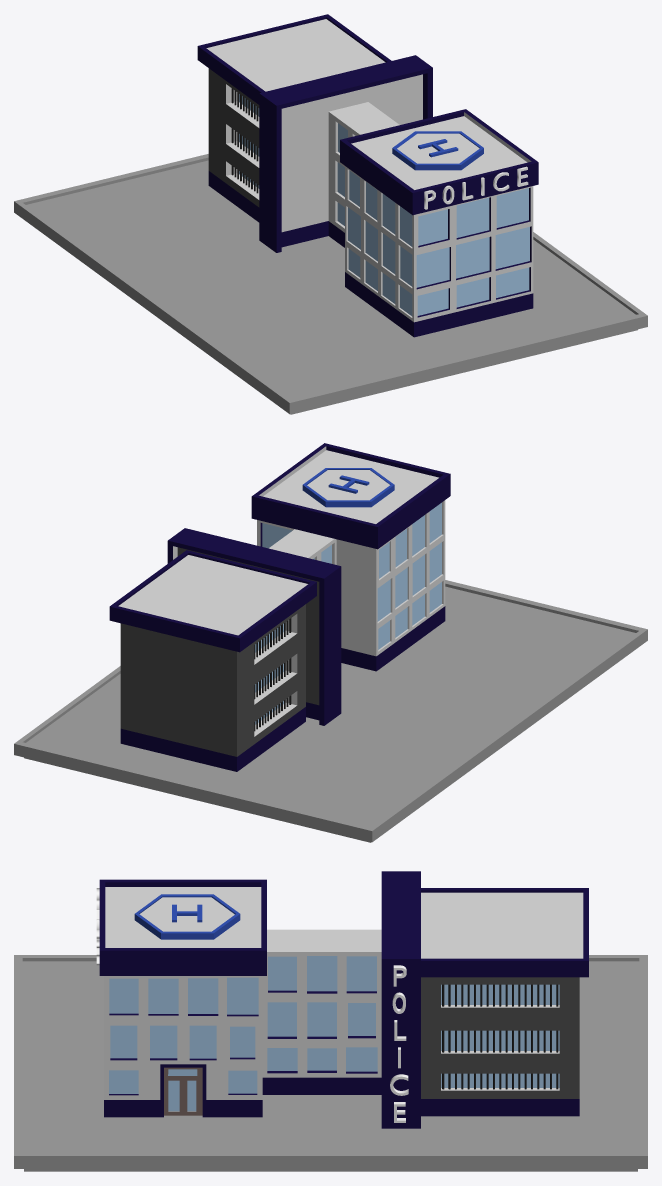
The model's file is stylized_police_station_lowpoly.glb.
3 views of the same model, one above another, from view 1: azimuth 30°, elevation 25°; view 2: azimuth 150°, elevation 25°; view 3: azimuth 270°, elevation 25° (orthographic). The views are drawn at different scales.
Visible parts, largest first — view 1: Cube_0, Cube.001_11, Circle_1, Text.003_12; view 2: Cube_0, Cube.001_11, Circle_1; view 3: Cube_0, Cube.001_11, Circle_1, Cylinder.002_6, Cylinder_4, Text_2, Cylinder.001_5.
Part boxes in pixels (box(x1,y1,x2,y2)): Cube_0: box(197, 14, 538, 337); Cube.001_11: box(14, 154, 647, 414); Circle_1: box(392, 131, 483, 170); Text.003_12: box(424, 166, 528, 209); Cube_0: box(109, 443, 450, 771); Cube.001_11: box(14, 580, 647, 842); Circle_1: box(302, 468, 394, 507); Cube_0: box(99, 871, 588, 1128); Cube.001_11: box(14, 955, 647, 1171); Circle_1: box(134, 894, 240, 939); Cylinder.002_6: box(442, 984, 558, 1006); Cylinder_4: box(442, 1030, 558, 1052); Text_2: box(390, 965, 408, 1122); Cylinder.001_5: box(442, 1073, 558, 1089).
Bounding box in the file's own units: 9 × 4.03 × 12.
